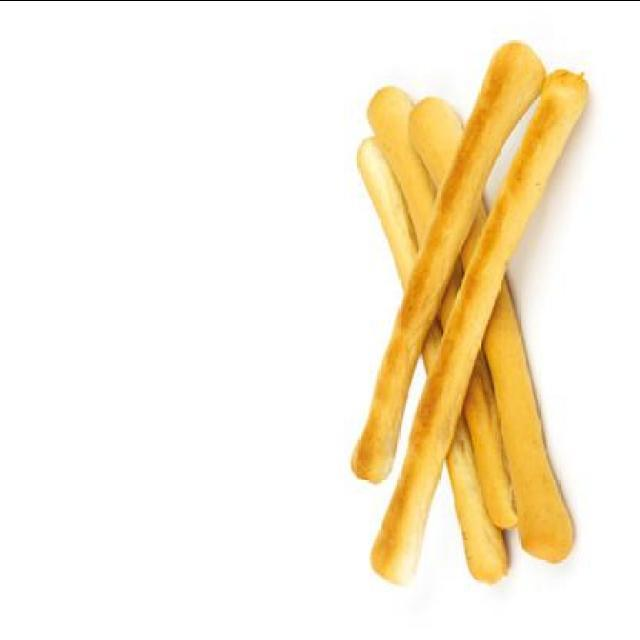Grissini: (350, 39, 592, 588)
